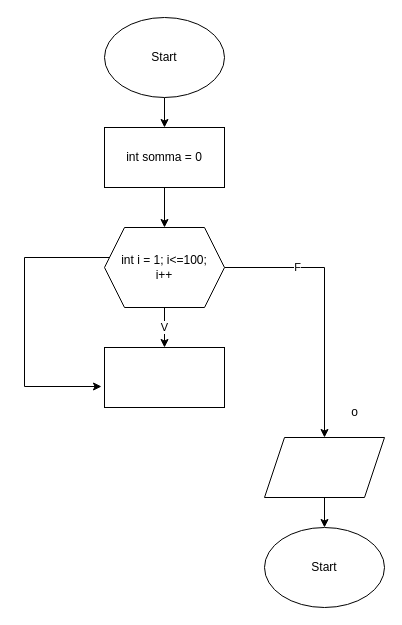
Image size: 402x625. Some labels were removed from this diagram. Each missing label, with the centre of its shape:
"somma" belongs at point 324,467.
"somma+=i" belongs at point 164,377.
